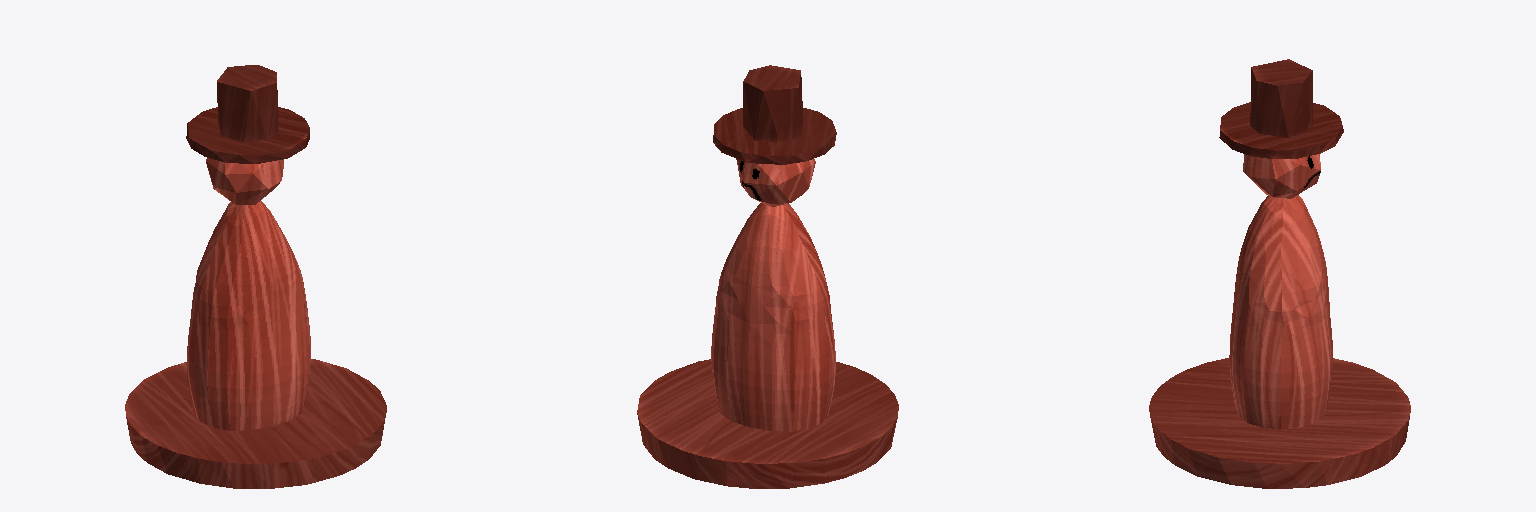
The picture shows the model from 3 angles: view 1: azimuth 30°, elevation 25°; view 2: azimuth 150°, elevation 25°; view 3: azimuth 270°, elevation 25°; orthographic projection.
Parts seen in each view (by area): view 1: Circle; view 2: Circle; view 3: Circle.
Part boxes in pixels (x1,y1,x2,y2): Circle: (125, 65, 386, 488); Circle: (637, 65, 898, 488); Circle: (1149, 59, 1410, 488).
Size of the model in its own units: 1.53 by 2.32 by 1.53.
Materials: 1 (1 with a texture image).